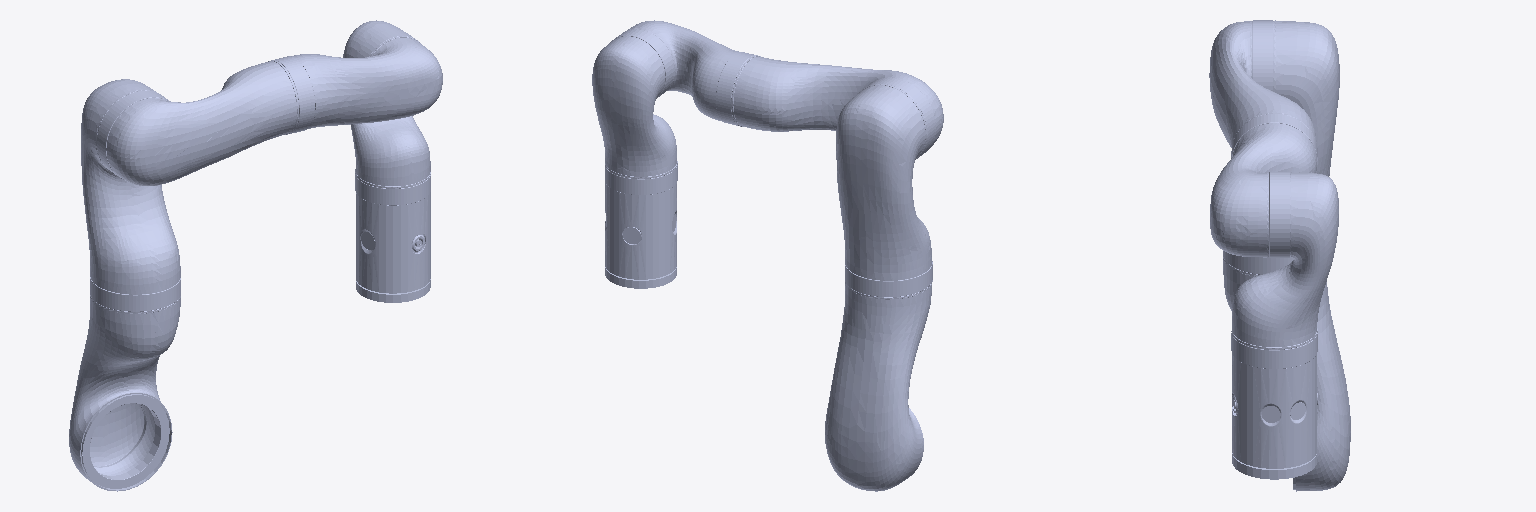
The robot description file, URDF, robot "tl_tcb605f":
<?xml version="1.0" encoding="utf-8"?>
<!-- This URDF was automatically created by SolidWorks to URDF Exporter! Originally created by Stephen Brawner (brawner@gmail.com) 
     Commit Version: 1.6.0-4-g7f85cfe  Build Version: 1.6.7995.38578
     For more information, please see http://wiki.ros.org/sw_urdf_exporter -->
<robot
  name="tl_tcb605f">
  <link
    name="link0">
    <inertial>
      <origin
        xyz="0.000708831292588162 -8.61075349149129E-05 0.0437241147546662"
        rpy="0 0 0" />
      <mass
        value="0.184997778677383" />
      <inertia
        ixx="0.000408655880224899"
        ixy="-6.47925326858493E-07"
        ixz="3.45905947380276E-06"
        iyy="0.000402045698173365"
        iyz="-4.42033155327585E-07"
        izz="0.000394929591269372" />
    </inertial>
    <visual>
      <origin
        xyz="0 0 0"
        rpy="0 0 0" />
      <geometry>
        <mesh
          filename="package://tl_description/meshes/tl_tcb605f/link0.STL" />
      </geometry>
      <material
        name="">
        <color
          rgba="0.792156862745098 0.819607843137255 0.933333333333333 1" />
      </material>
    </visual>
    <collision>
      <origin
        xyz="0 0 0"
        rpy="0 0 0" />
      <geometry>
        <mesh
          filename="package://tl_description/meshes/tl_tcb605f/link0.STL" />
      </geometry>
    </collision>
  </link>
  <link
    name="link1">
    <inertial>
      <origin
        xyz="-1.47467364543795E-05 -0.0147035745839652 0.074170065372986"
        rpy="0 0 0" />
      <mass
        value="0.14078274314442" />
      <inertia
        ixx="0.000389165158363872"
        ixy="7.76850517532584E-09"
        ixz="-3.45965366455443E-08"
        iyy="0.000404601054210795"
        iyz="5.39676858807365E-05"
        izz="0.000158801770197842" />
    </inertial>
    <visual>
      <origin
        xyz="0 0 0"
        rpy="0 0 0" />
      <geometry>
        <mesh
          filename="package://tl_description/meshes/tl_tcb605f/link1.STL" />
      </geometry>
      <material
        name="">
        <color
          rgba="0.792156862745098 0.819607843137255 0.933333333333333 1" />
      </material>
    </visual>
    <collision>
      <origin
        xyz="0 0 0"
        rpy="0 0 0" />
      <geometry>
        <mesh
          filename="package://tl_description/meshes/tl_tcb605f/link1.STL" />
      </geometry>
    </collision>
  </link>
  <joint
    name="joint1"
    type="revolute">
    <origin
      xyz="0 0 0.11455"
      rpy="0 0 0" />
    <parent
      link="link0" />
    <child
      link="link1" />
    <axis
      xyz="0 0 1" />
    <limit
      lower="-3.1416"
      upper="3.1416"
      effort="0"
      velocity="0" />
  </joint>
  <link
    name="link2">
    <inertial>
      <origin
        xyz="-5.76531237161324E-05 -0.131631880772405 0.00890404740131982"
        rpy="0 0 0" />
      <mass
        value="0.239054089668246" />
      <inertia
        ixx="0.00213390518057628"
        ixy="-2.27397668248014E-06"
        ixz="-2.27513950872361E-07"
        iyy="0.000220526681271214"
        iyz="-8.90845091873293E-05"
        izz="0.00215092260732315" />
    </inertial>
    <visual>
      <origin
        xyz="0 0 0"
        rpy="0 0 0" />
      <geometry>
        <mesh
          filename="package://tl_description/meshes/tl_tcb605f/link2.STL" />
      </geometry>
      <material
        name="">
        <color
          rgba="0.792156862745098 0.819607843137255 0.933333333333333 1" />
      </material>
    </visual>
    <collision>
      <origin
        xyz="0 0 0"
        rpy="0 0 0" />
      <geometry>
        <mesh
          filename="package://tl_description/meshes/tl_tcb605f/link2.STL" />
      </geometry>
    </collision>
  </link>
  <joint
    name="joint2"
    type="revolute">
    <origin
      xyz="0 0.00715000000101006 0.127449999999348"
      rpy="-1.5707963267949 0 0" />
    <parent
      link="link1" />
    <child
      link="link2" />
    <axis
      xyz="0 0 -1" />
    <limit
      lower="-2.4086"
      upper="2.4086"
      effort="0"
      velocity="0" />
  </joint>
  <link
    name="link3">
    <inertial>
      <origin
        xyz="-6.48637540848612E-06 0.0577535050716222 0.00898472400251164"
        rpy="0 0 0" />
      <mass
        value="0.0945260952124885" />
      <inertia
        ixx="0.000237785884377793"
        ixy="5.30816348665186E-08"
        ixz="-1.06494690823018E-09"
        iyy="6.4261676425499E-05"
        iyz="4.60316588405138E-05"
        izz="0.000240859360083646" />
    </inertial>
    <visual>
      <origin
        xyz="0 0 0"
        rpy="0 0 0" />
      <geometry>
        <mesh
          filename="package://tl_description/meshes/tl_tcb605f/link3.STL" />
      </geometry>
      <material
        name="">
        <color
          rgba="0.792156862745098 0.819607843137255 0.933333333333333 1" />
      </material>
    </visual>
    <collision>
      <origin
        xyz="0 0 0"
        rpy="0 0 0" />
      <geometry>
        <mesh
          filename="package://tl_description/meshes/tl_tcb605f/link3.STL" />
      </geometry>
    </collision>
  </link>
  <joint
    name="joint3"
    type="revolute">
    <origin
      xyz="0 -0.27 -0.0153"
      rpy="3.1416 0 1.5708" />
    <parent
      link="link2" />
    <child
      link="link3" />
    <axis
      xyz="0 0 1" />
    <limit
      lower="-0.9250"
      upper="4.0666"
      effort="0"
      velocity="0" />
  </joint>
  <link
    name="link4">
    <inertial>
      <origin
        xyz="1.01606646571693E-05 -0.0129940465321864 0.0554923015741177"
        rpy="0 0 0" />
      <mass
        value="0.0720848913335696" />
      <inertia
        ixx="0.00010541499479421"
        ixy="1.21054457078871E-08"
        ixz="2.49403919020233E-09"
        iyy="0.000106134789383844"
        iyz="1.8645725578118E-05"
        izz="4.55695578763409E-05" />
    </inertial>
    <visual>
      <origin
        xyz="0 0 0"
        rpy="0 0 0" />
      <geometry>
        <mesh
          filename="package://tl_description/meshes/tl_tcb605f/link4.STL" />
      </geometry>
      <material
        name="">
        <color
          rgba="0.792156862745098 0.819607843137255 0.933333333333333 1" />
      </material>
    </visual>
    <collision>
      <origin
        xyz="0 0 0"
        rpy="0 0 0" />
      <geometry>
        <mesh
          filename="package://tl_description/meshes/tl_tcb605f/link4.STL" />
      </geometry>
    </collision>
  </link>
  <joint
    name="joint4"
    type="revolute">
    <origin
      xyz="0 0.13665 -0.00815"
      rpy="-1.5708 0 0" />
    <parent
      link="link3" />
    <child
      link="link4" />
    <axis
      xyz="0 0 1" />
    <limit
      lower="-3.1416"
      upper="3.1416"
      effort="0"
      velocity="0" />
  </joint>
  <link
    name="link5">
    <inertial>
      <origin
        xyz="-1.08654065974832E-06 -0.0369306924080478 0.012218137742235"
        rpy="0 0 0" />
      <mass
        value="0.0641129925895538" />
      <inertia
        ixx="9.88028775725866E-05"
        ixy="7.57141112076012E-09"
        ixz="-3.11343420016476E-09"
        iyy="4.1003396326335E-05"
        iyz="-2.10914786483459E-05"
        izz="9.73769677421464E-05" />
    </inertial>
    <visual>
      <origin
        xyz="0 0 0"
        rpy="0 0 0" />
      <geometry>
        <mesh
          filename="package://tl_description/meshes/tl_tcb605f/link5.STL" />
      </geometry>
      <material
        name="">
        <color
          rgba="0.792156862745098 0.819607843137255 0.933333333333333 1" />
      </material>
    </visual>
    <collision>
      <origin
        xyz="0 0 0"
        rpy="0 0 0" />
      <geometry>
        <mesh
          filename="package://tl_description/meshes/tl_tcb605f/link5.STL" />
      </geometry>
    </collision>
  </link>
  <joint
    name="joint5"
    type="revolute">
    <origin
      xyz="0 0.00365 0.09335"
      rpy="-1.5708 1.5708 0" />
    <parent
      link="link4" />
    <child
      link="link5" />
    <axis
      xyz="0 0 1" />
    <limit
      lower="-3.8921"
      upper="0.7505"
      effort="0"
      velocity="0" />
  </joint>
  <link
    name="link6">
    <inertial>
      <origin
        xyz="-8.58859944419791E-05 -0.000171156947356373 0.0579325760957963"
        rpy="0 0 0" />
      <mass
        value="0.126841498262816" />
      <inertia
        ixx="0.000105183722015606"
        ixy="-2.52023226881164E-07"
        ixz="-1.10533049552185E-07"
        iyy="0.000104260563525985"
        iyz="-2.78106941754392E-07"
        izz="6.69703539751629E-05" />
    </inertial>
    <visual>
      <origin
        xyz="0 0 0"
        rpy="0 0 0" />
      <geometry>
        <mesh
          filename="package://tl_description/meshes/tl_tcb605f/link6.STL" />
      </geometry>
      <material
        name="">
        <color
          rgba="0.792156862745098 0.819607843137255 0.933333333333333 1" />
      </material>
    </visual>
    <collision>
      <origin
        xyz="0 0 0"
        rpy="0 0 0" />
      <geometry>
        <mesh
          filename="package://tl_description/meshes/tl_tcb605f/link6.STL" />
      </geometry>
    </collision>
  </link>
  <joint
    name="joint6"
    type="revolute">
    <origin
      xyz="0 -0.09515 -0.00365"
      rpy="1.5708 0 0" />
    <parent
      link="link5" />
    <child
      link="link6" />
    <axis
      xyz="0 0 1" />
    <limit
      lower="-3.1416"
      upper="3.1416"
      effort="0"
      velocity="0" />
  </joint>
</robot>

--- What the picture shows (computed from the rendered views, not written in the file) ---
The picture shows the robot from 3 angles, left to right: view 1: azimuth 30°, elevation 25°; view 2: azimuth 150°, elevation 25°; view 3: azimuth 270°, elevation 25°; orthographic projection.
Model tl_tcb605f with 7 links and 6 joints (6 revolute), rooted at link0, posed every joint at zero.
Links seen in each view (by area): view 1: link2, link3, link4, link6, link5; view 2: link2, link5, link3, link6, link4; view 3: link2, link5, link4, link6, link3.
Boxes of the visible links, x1=… form: link2: x1=69, y1=79, x2=180, y2=491; link3: x1=106, y1=56, x2=315, y2=185; link4: x1=291, y1=29, x2=442, y2=128; link6: x1=356, y1=192, x2=430, y2=302; link5: x1=343, y1=20, x2=430, y2=205; link2: x1=825, y1=77, x2=935, y2=491; link5: x1=592, y1=36, x2=677, y2=194; link3: x1=716, y1=52, x2=943, y2=148; link6: x1=605, y1=183, x2=676, y2=288; link4: x1=610, y1=20, x2=738, y2=121; link2: x1=1223, y1=20, x2=1350, y2=491; link5: x1=1231, y1=172, x2=1338, y2=368; link4: x1=1210, y1=123, x2=1316, y2=257; link6: x1=1232, y1=355, x2=1317, y2=479; link3: x1=1209, y1=21, x2=1317, y2=164.
Size in the robot's own frame: 0.3004 by 0.0963 by 0.3464 metres.
5 mesh visuals loaded from 7 distinct referenced files (5 binary STL); not drawn: 2 (reference not matched to a file when rendering).
